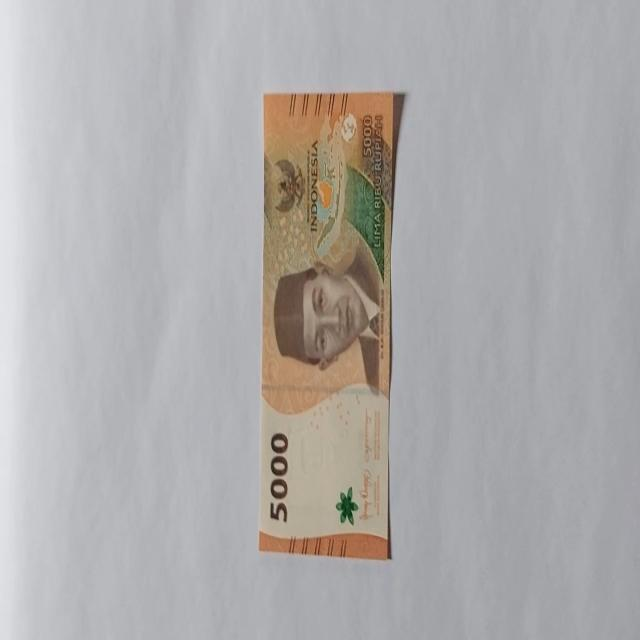lima ribu rupiah: (258, 90, 402, 560), (272, 247, 381, 375)
